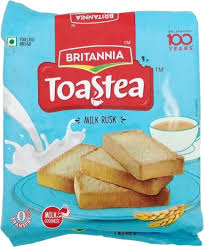Britania-toast-small: (1, 11, 198, 242)
